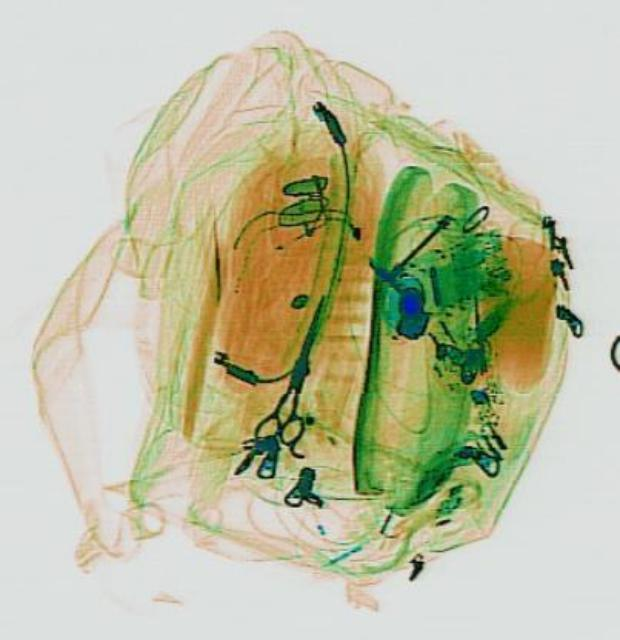Scissors: (248, 285, 344, 447)
